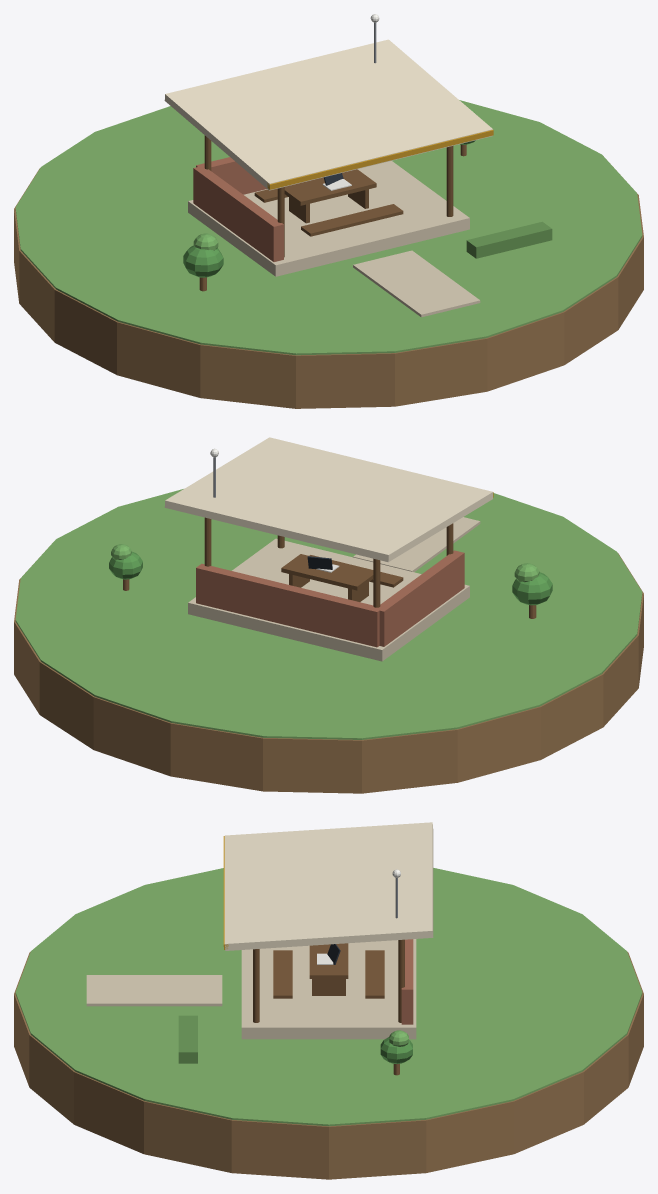
Rendered from studySpot.glb.
3 renders of one model, top to bottom at view 1: azimuth 30°, elevation 25°; view 2: azimuth 150°, elevation 25°; view 3: azimuth 270°, elevation 25°, orthographic.
Parts seen in each view (by area): view 1: studySpot; view 2: studySpot; view 3: studySpot.
Part boxes in pixels (x1=…): studySpot: x1=14, y1=14, x2=643, y2=408; studySpot: x1=14, y1=437, x2=643, y2=793; studySpot: x1=14, y1=822, x2=643, y2=1179.
Size of the model in its own units: 13 by 4.91 by 13.
